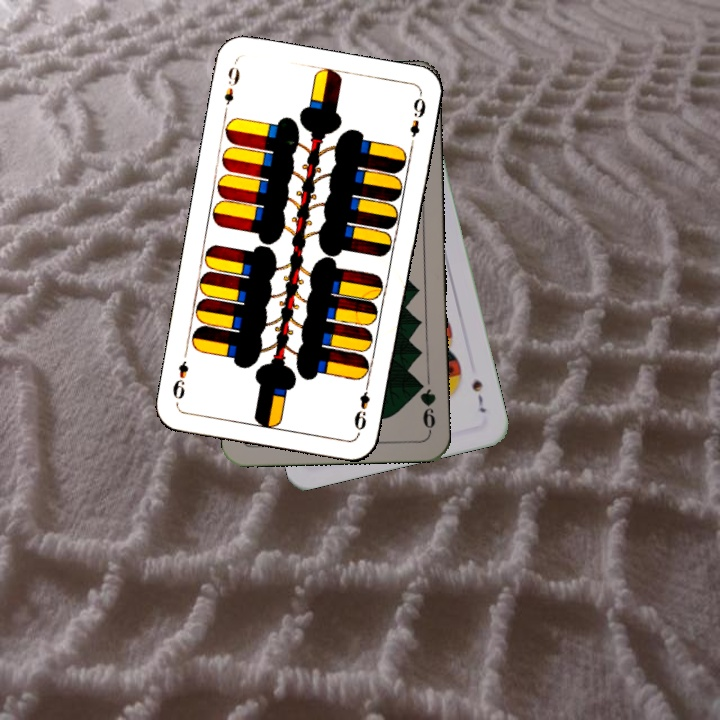E9: (219, 59, 243, 118), (350, 376, 372, 435)
G9: (413, 376, 438, 435)
S7: (468, 375, 489, 415)
